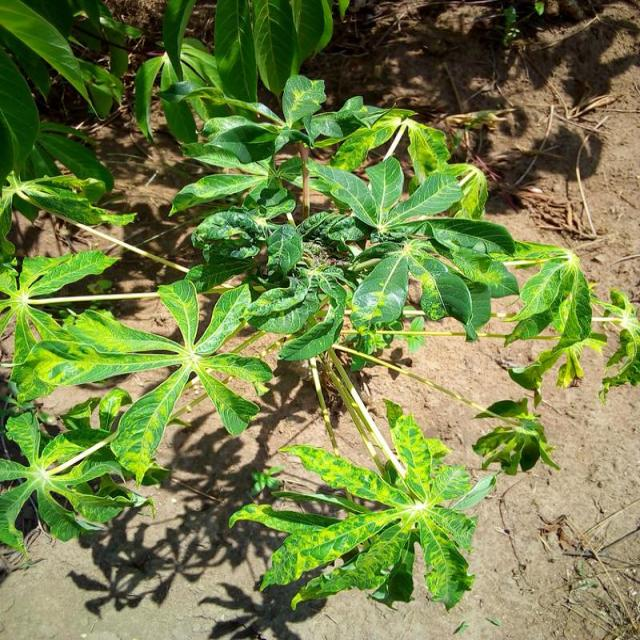cassava leaf: (229, 400, 497, 612), (25, 276, 274, 486)
